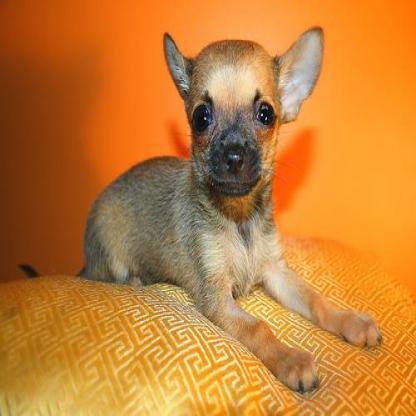dog: (68, 21, 388, 395)
